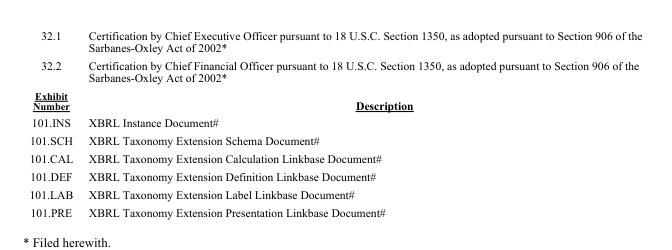table: (28, 28, 641, 218)
table column: (80, 28, 641, 218), (28, 28, 80, 218)
table row: (28, 55, 641, 86), (28, 28, 641, 55), (28, 86, 641, 113), (28, 148, 641, 167), (28, 130, 641, 148), (28, 167, 641, 185), (28, 185, 641, 203), (28, 113, 641, 130), (28, 203, 641, 218)
